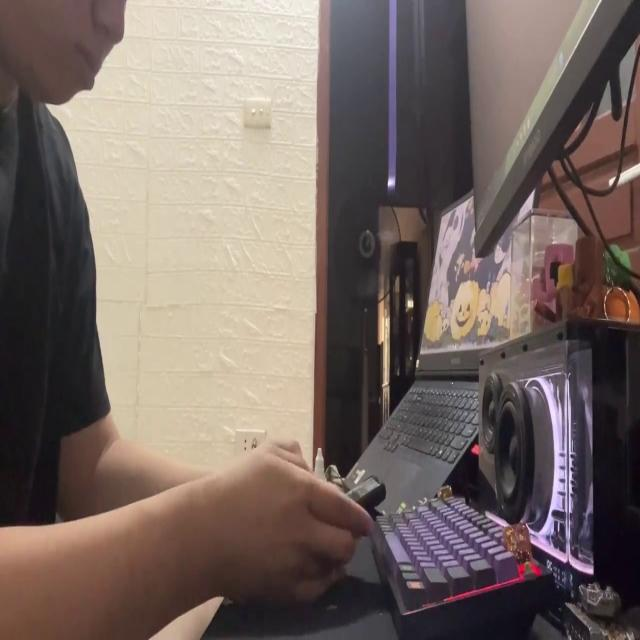laptop: (331, 165, 547, 519), (461, 0, 640, 261)
phone: (346, 466, 388, 519)
student: (0, 0, 376, 635)
